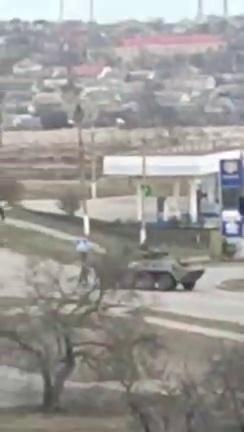person: (76, 262, 91, 294)
tank: (94, 249, 206, 292)
